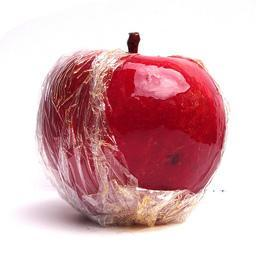apple: (38, 34, 230, 227)
